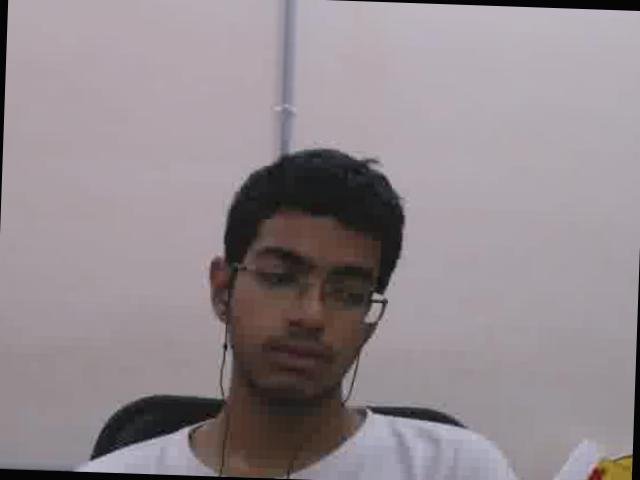bosan: (229, 207, 388, 400)
